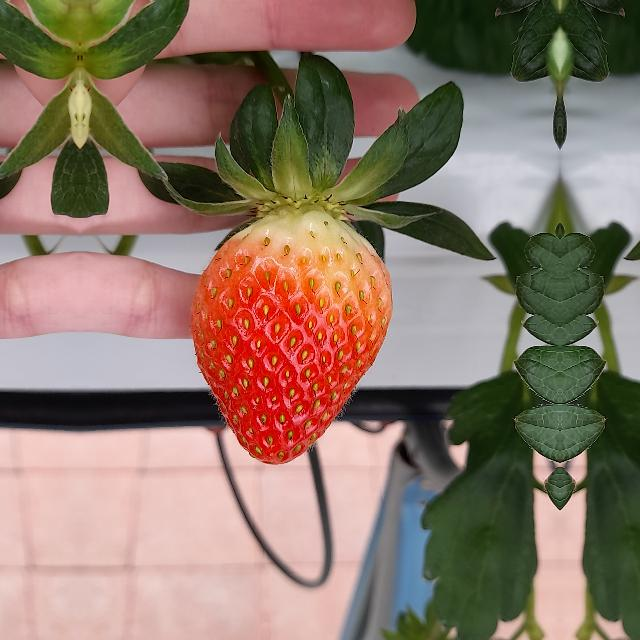Health_100: (190, 203, 392, 464)
